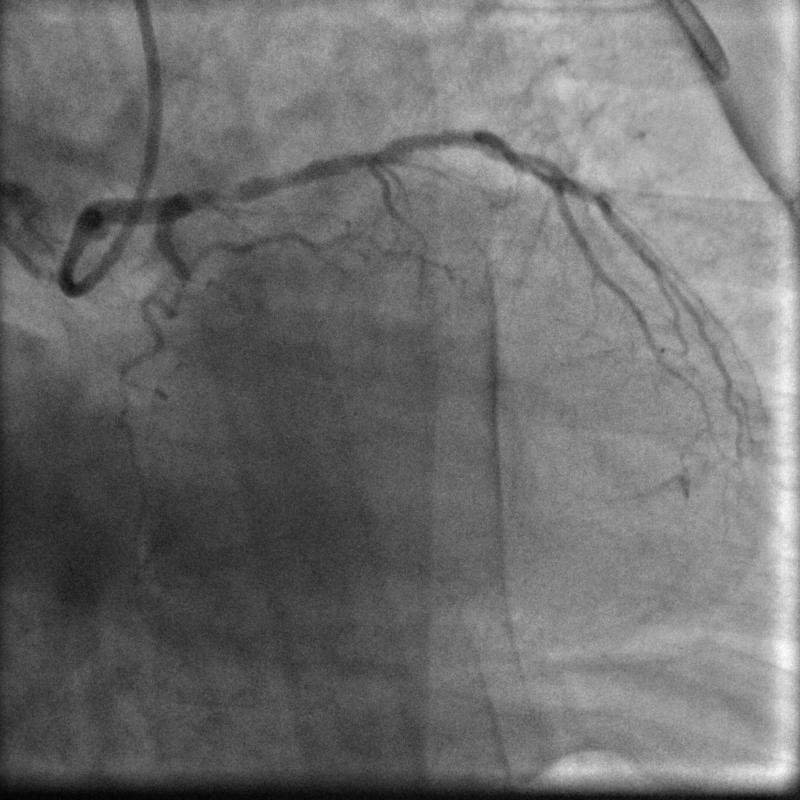Stenosis: (185, 179, 249, 204)
